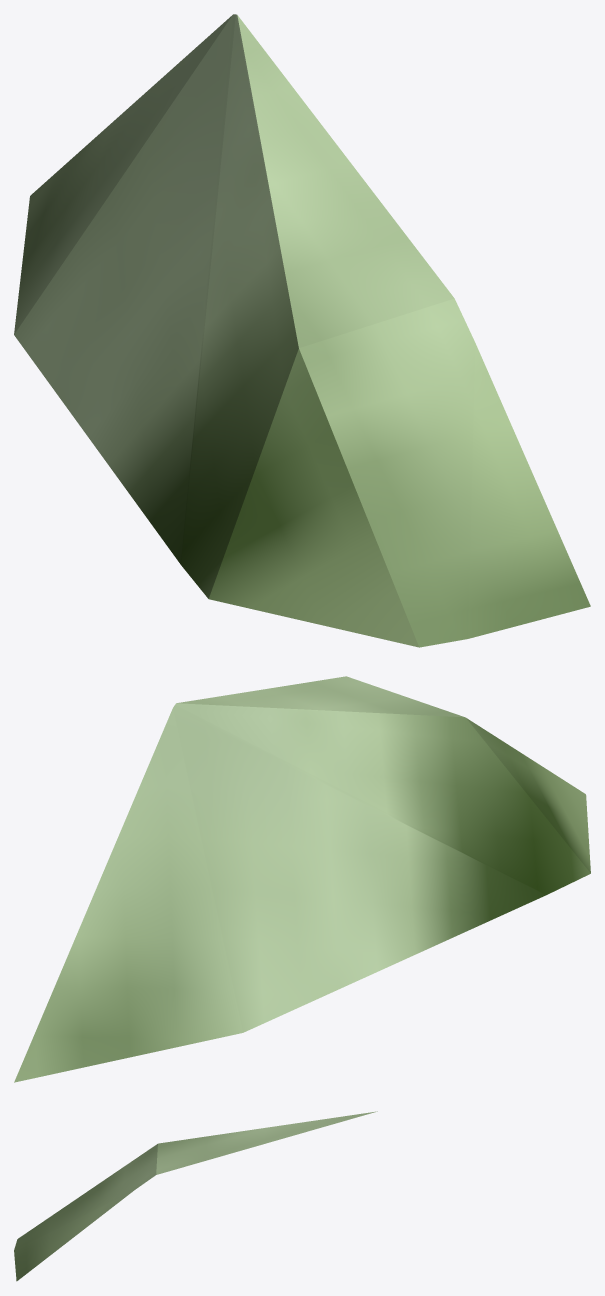
The picture shows the model from 3 angles, top to bottom: view 1: azimuth 30°, elevation 25°; view 2: azimuth 150°, elevation 25°; view 3: azimuth 270°, elevation 25°; orthographic projection. The views are drawn at different scales.
Bounding box in the file's own units: 0.1194 × 0.1361 × 0.4173.
Materials: 1 (1 with a texture image).
